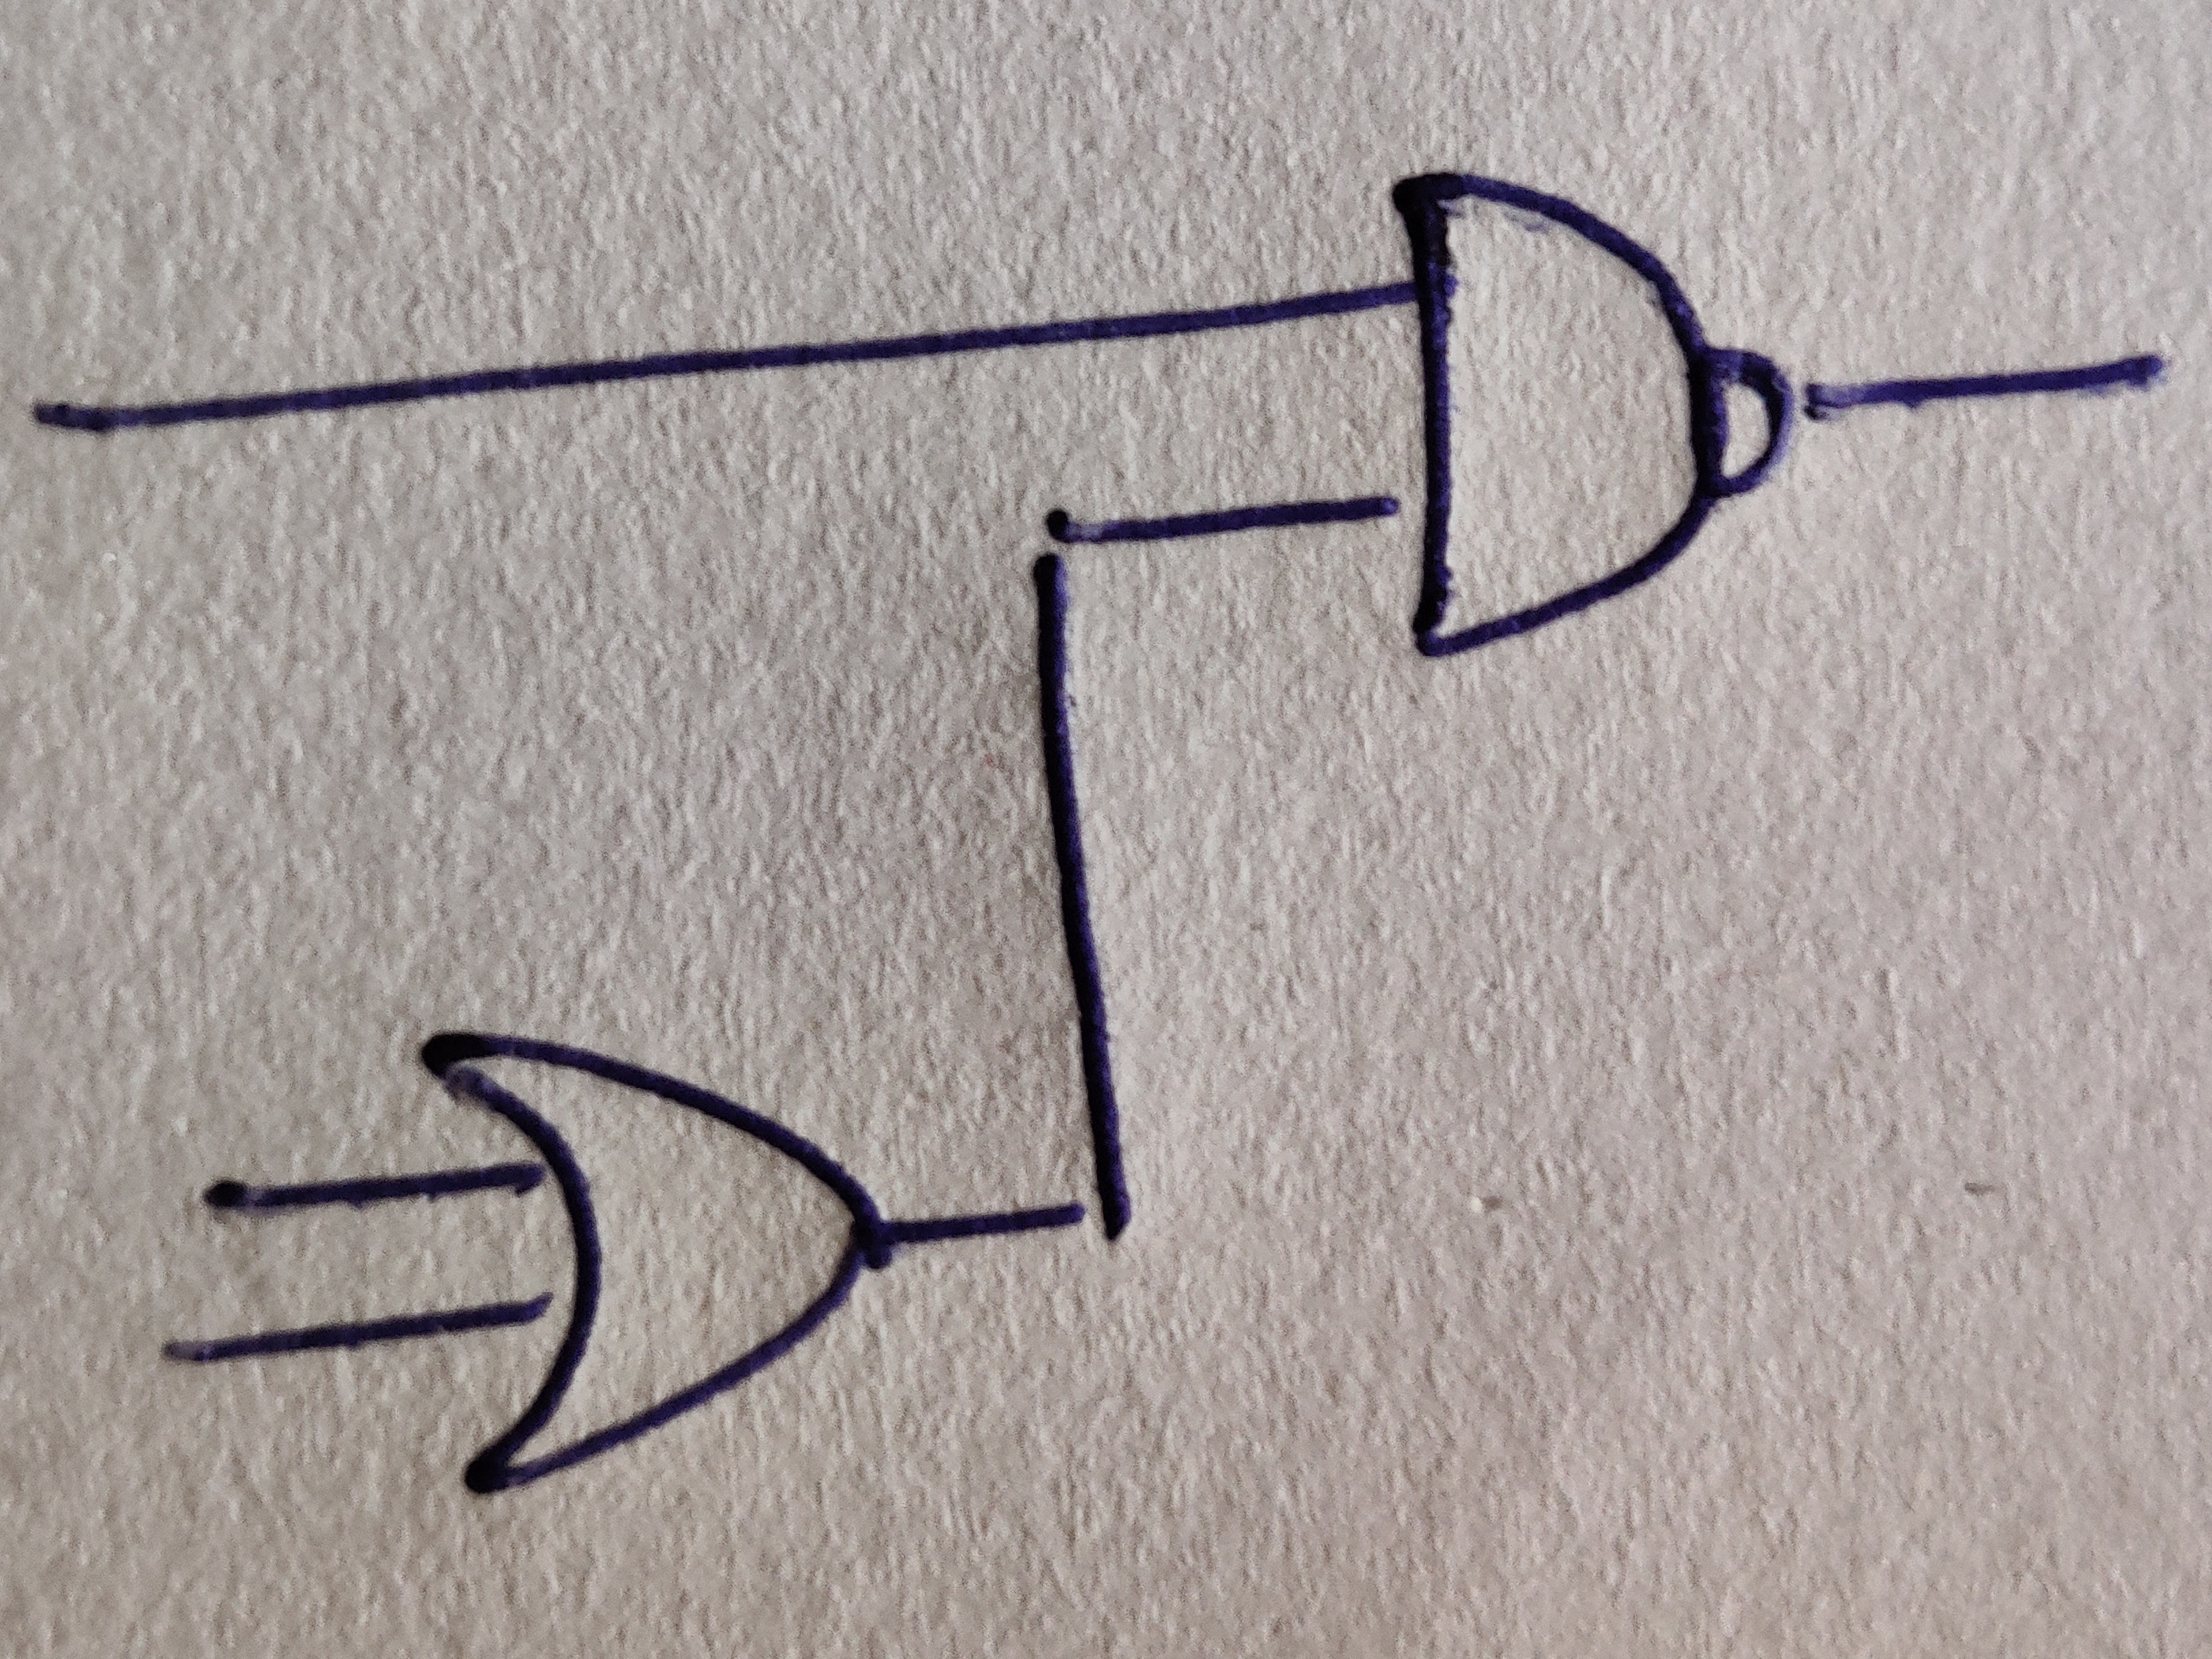and: (1383, 169, 1710, 660)
not: (1693, 347, 1792, 505)
or: (421, 1030, 892, 1495)
